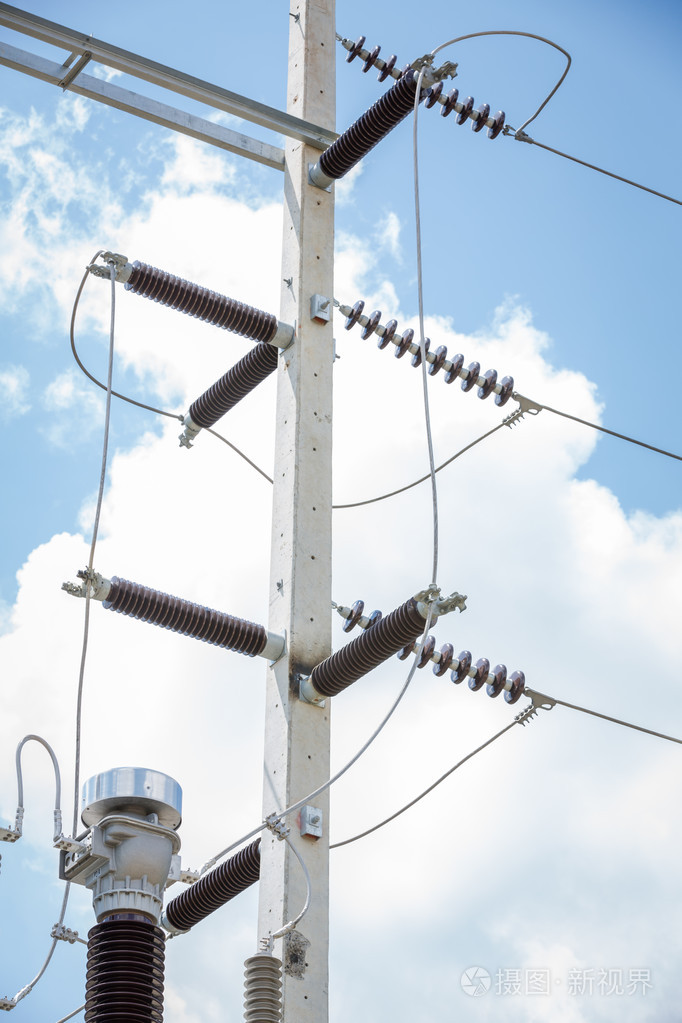insulator: (341, 296, 518, 409), (341, 604, 527, 705), (348, 34, 509, 137)
